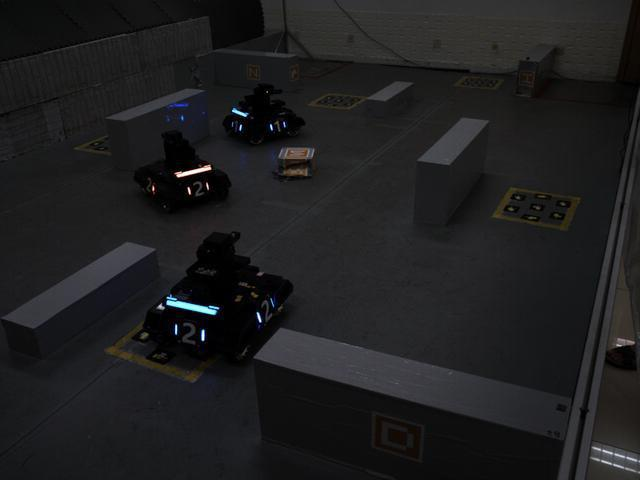armor: (166, 318, 214, 352), (253, 291, 279, 331), (182, 181, 214, 201), (141, 171, 159, 200), (265, 116, 291, 136), (228, 118, 247, 137)
